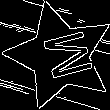M_W: (29, 27, 91, 84)
